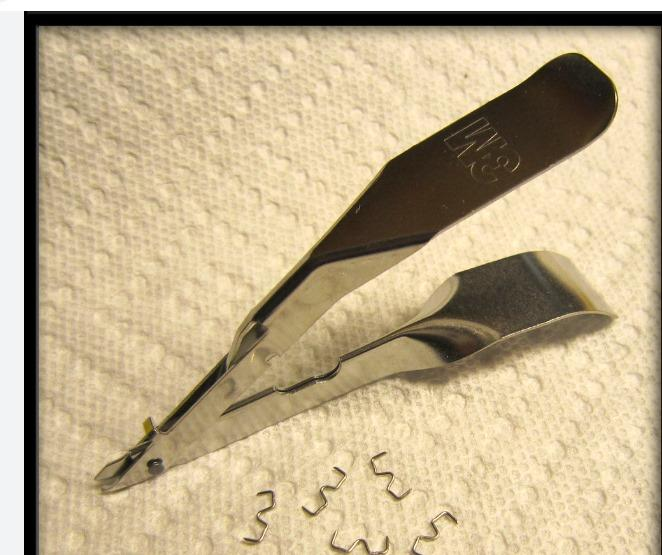Stapler Remover: (92, 42, 622, 497)
